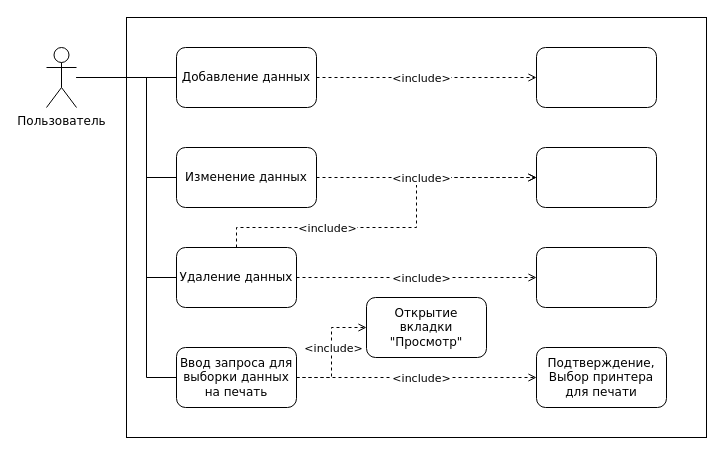
The diagram is 724 pixels wide and 455 high, and some of its shapes have lost their labels. Each missing label, with the centre of its shape:
Запрос пароля: pixel 596 277
Открытие вкладки "Добавление": pixel 596 77
Открытие вкладки "Изменение-Удаление": pixel 596 177
